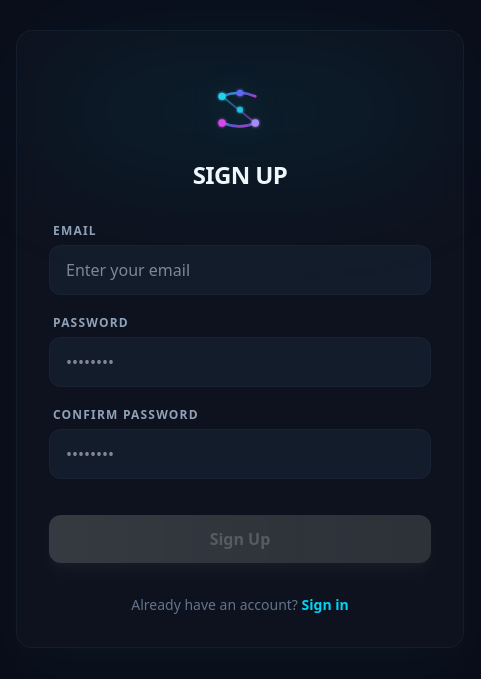
Test: UserAuthPage › Interactions › disables submit button and shows error when passwords do not match in sign up
The width and height of the screenshot is (481, 679).
In the field labelled "Email": (240, 270) [49,245,431,295], type "test@example.com"
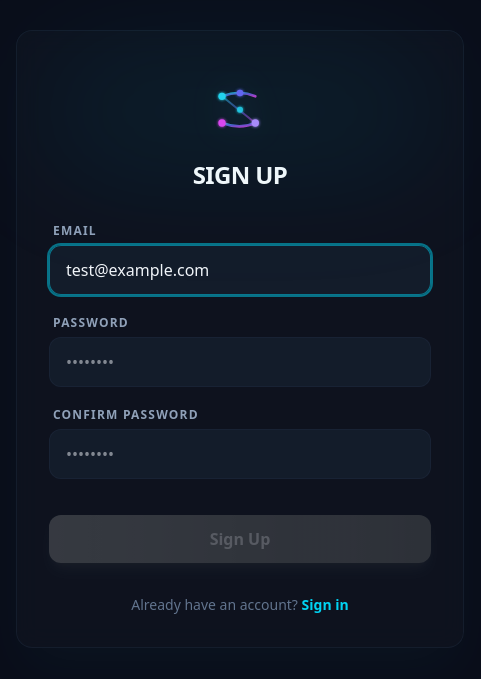
In the password field labelled "Password": (240, 362) [49,337,431,387], type "password123"
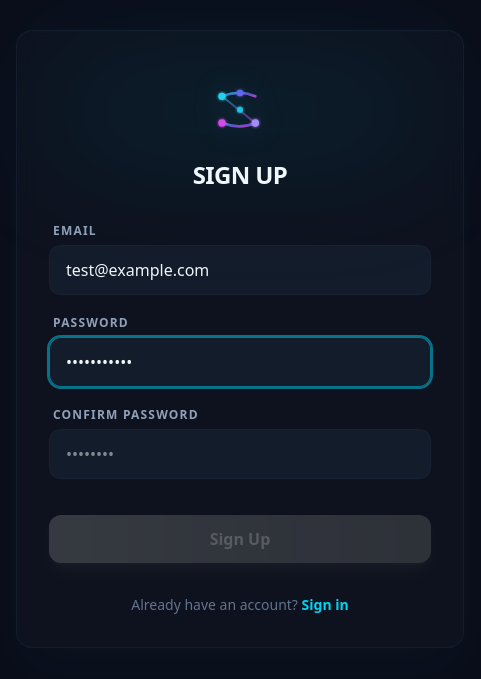
In the password field labelled "Confirm Password": (240, 454) [49,429,431,479], type "different123"
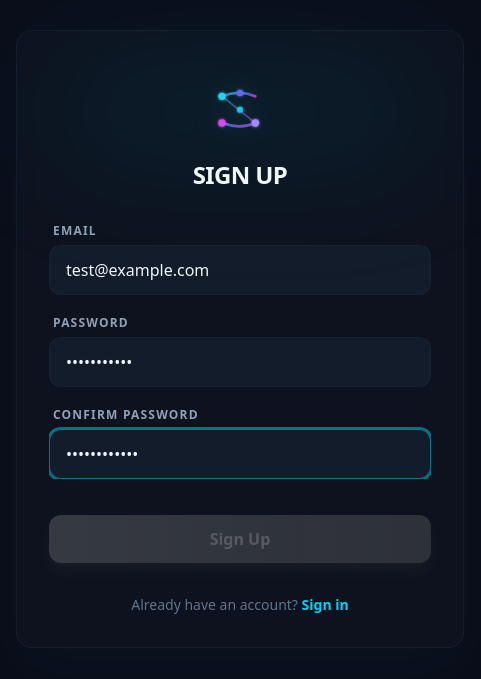
Press Tab
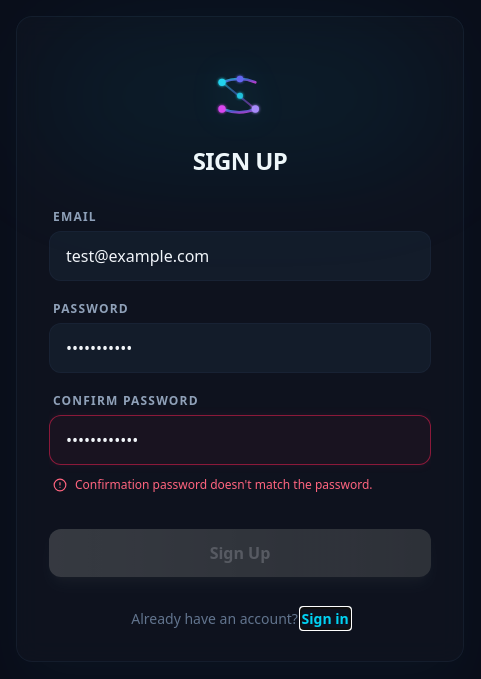
Expected: the button "Sign Up" is disabled, [49,529,431,577]
Expected: the text "Confirmation password doesn't match the password." is shown, [75,477,373,493]
